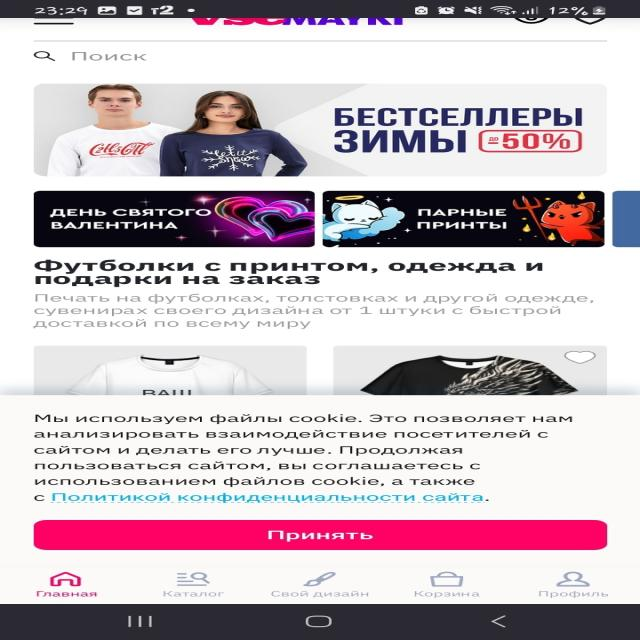button: (31, 519, 605, 550)
site: (0, 396, 640, 567)
